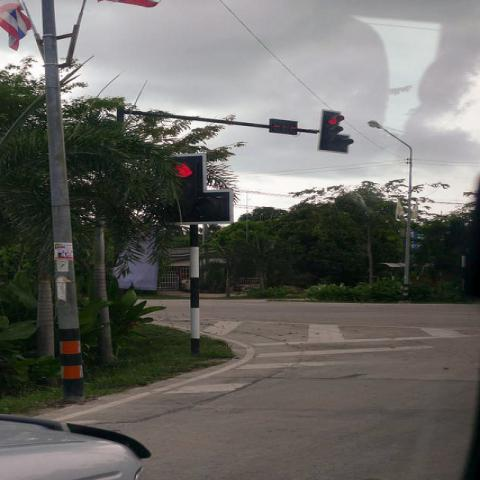car: (0, 413, 153, 479)
